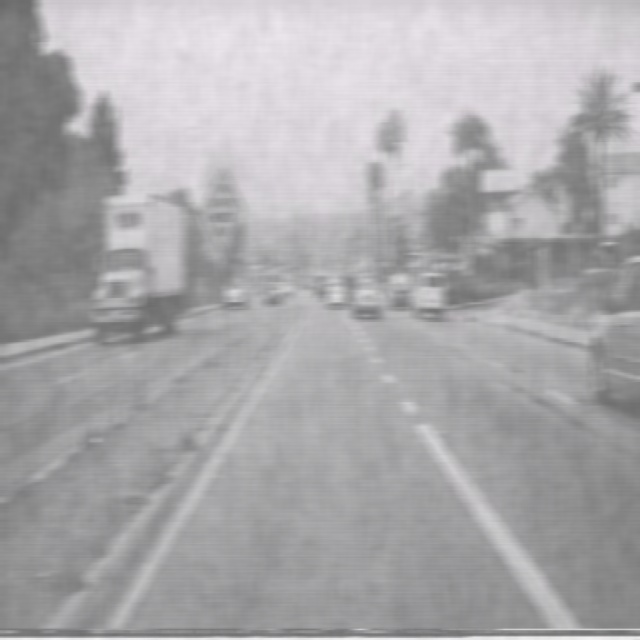thruMergeRight: (200, 166, 243, 253)
